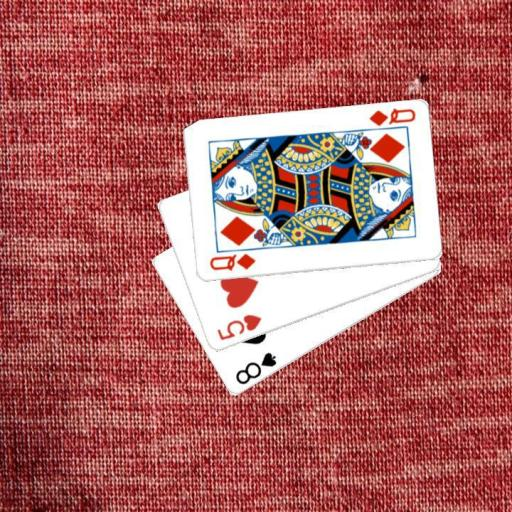5H: (214, 312, 263, 342)
8S: (232, 349, 278, 387)
QD: (366, 105, 417, 128), (206, 251, 257, 273)
